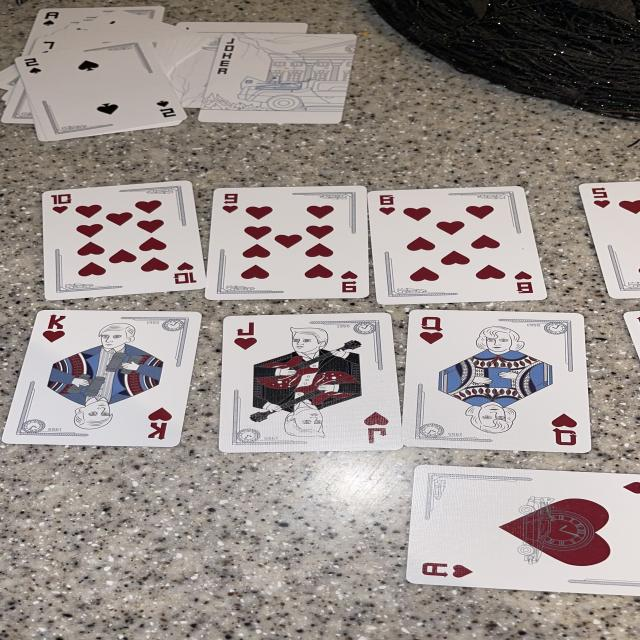10 of hearts: (39, 180, 206, 306)
2 of spades: (12, 42, 187, 143)
5 of hearts: (578, 182, 640, 309)
8 of hearts: (371, 187, 548, 307)
9 of hearts: (205, 186, 372, 305)
Ace of hearts: (405, 465, 640, 600)
Jack of hearts: (216, 312, 400, 456)
Joker: (200, 35, 358, 127)
King of hearts: (2, 311, 201, 451)
Queen of hearts: (402, 310, 591, 456)
